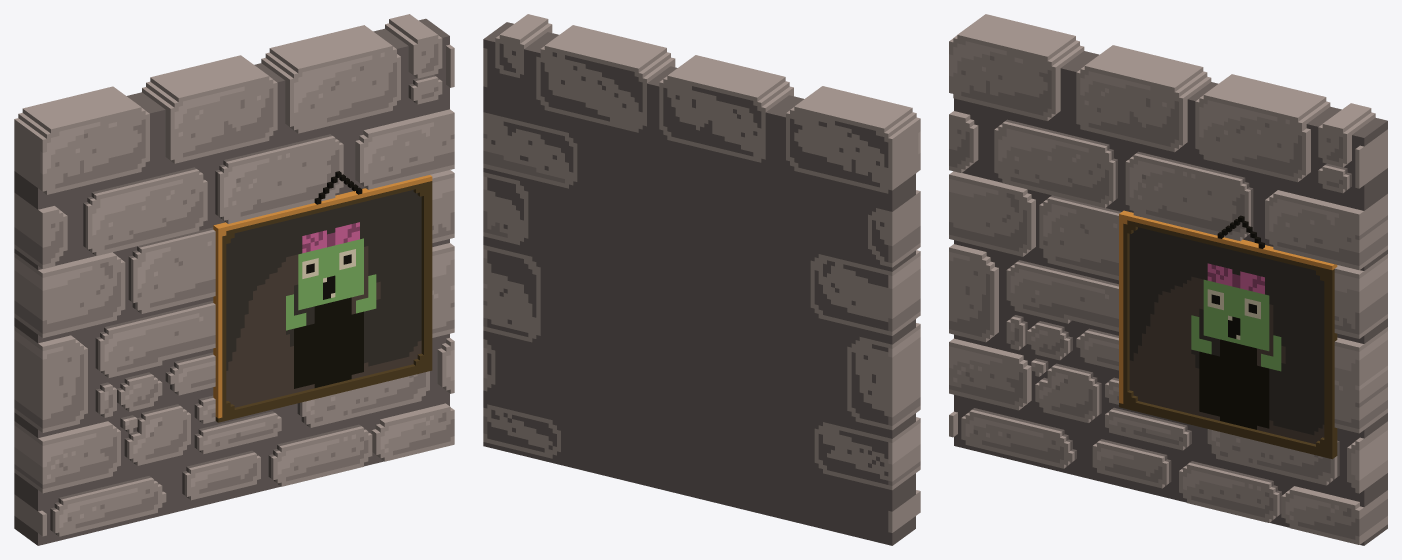
Rendered from GGJ walls 2.3.obj.
The picture shows the model from 3 angles, left to right: view 1: azimuth 30°, elevation 25°; view 2: azimuth 150°, elevation 25°; view 3: azimuth 330°, elevation 25°; orthographic projection.
Size of the model in its own units: 10 by 9.7 by 1.3.
1 material, 1 textured.
